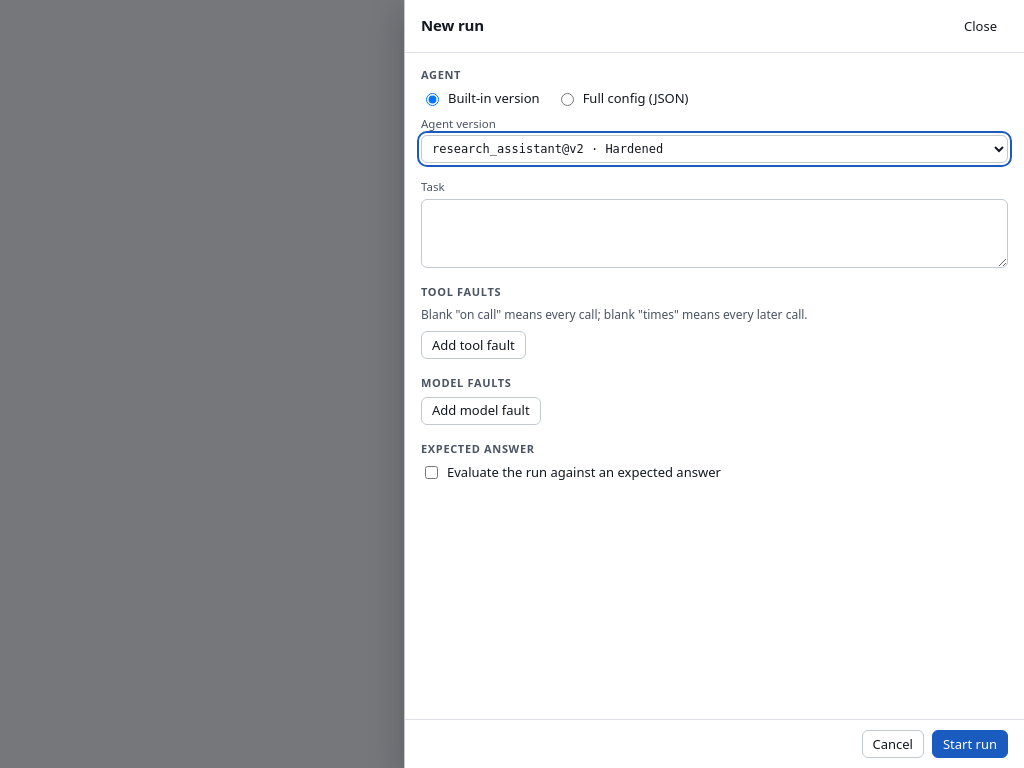
NewRunDrawer › shows why the server refused the run
This screenshot has width=1024, height=768.
Type "Hello" into the text box with class "task" at (714, 233), box [421,199,1008,268]
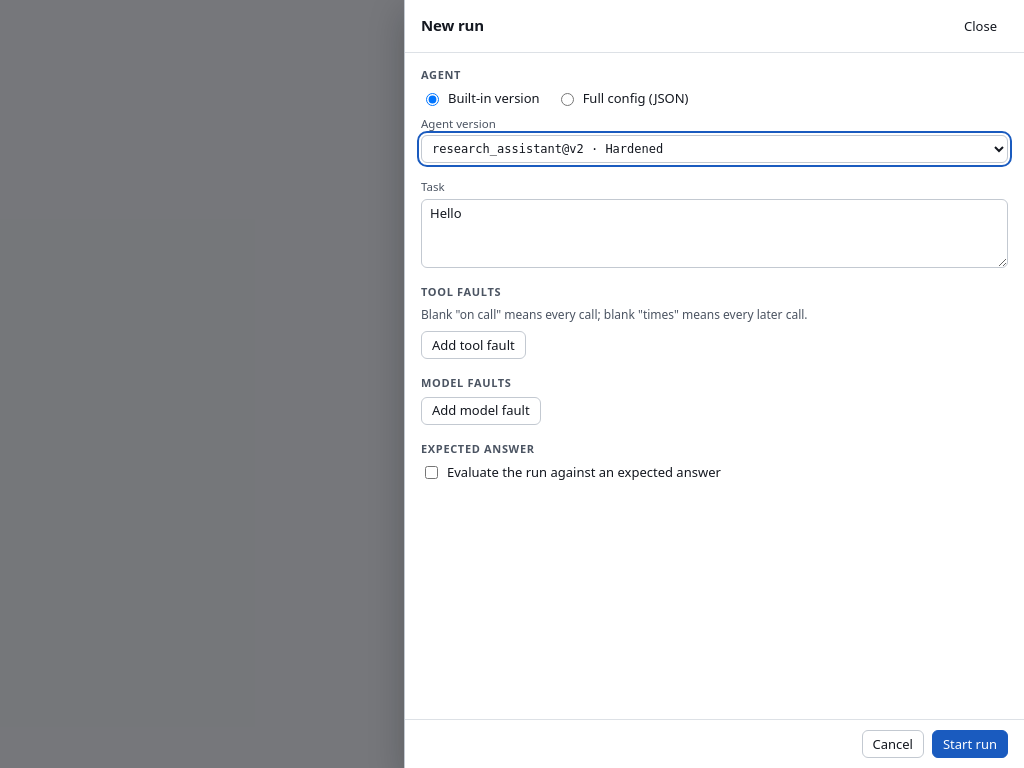
Submit the form, box [421,67,1008,482]
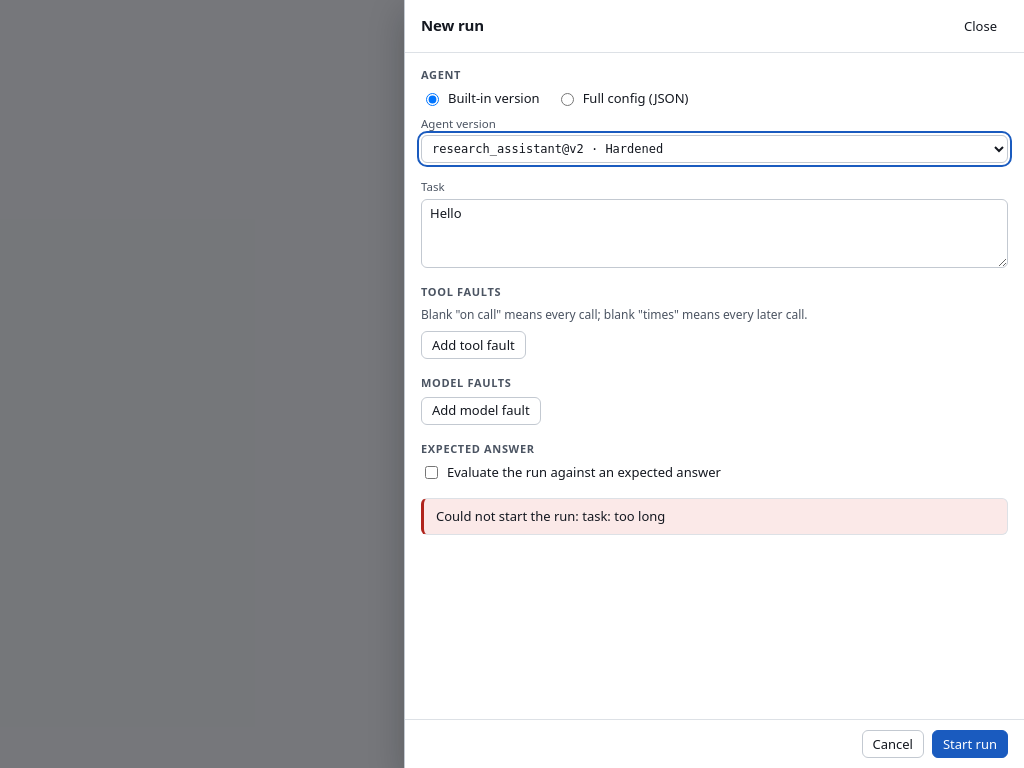
expect the message "Could not start the run: task: too long" is shown: met, box [421,498,1008,535]
